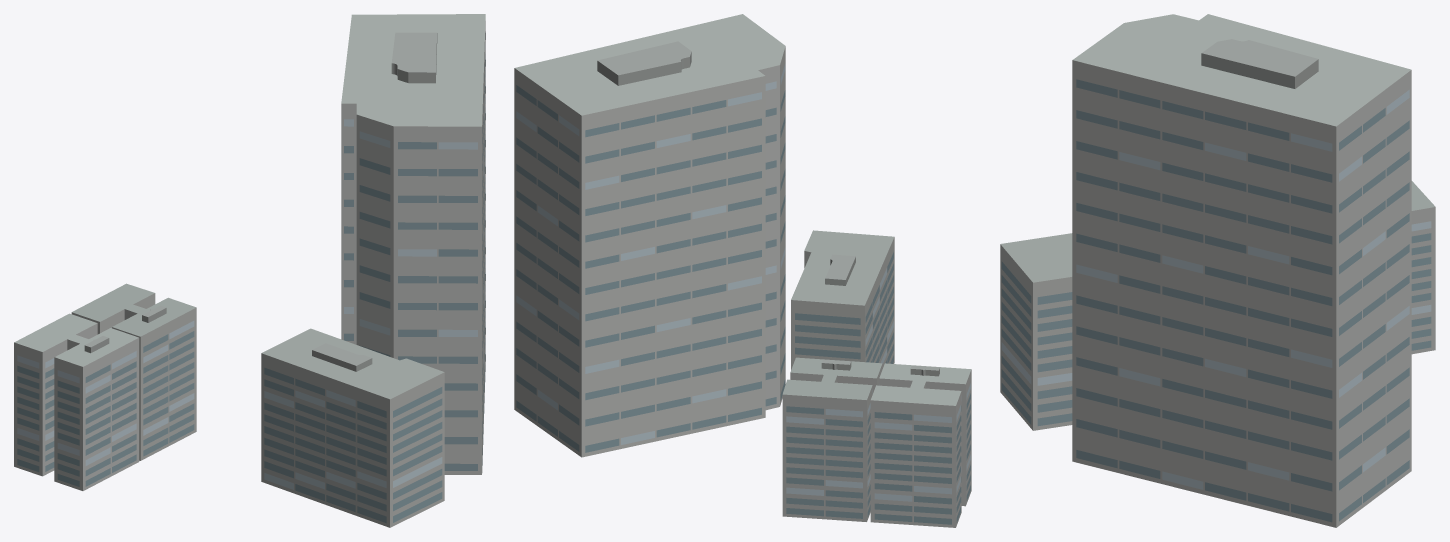
File: apt-a13579504.glb
3 renders of one model, left to right at view 1: azimuth 30°, elevation 25°; view 2: azimuth 150°, elevation 25°; view 3: azimuth 270°, elevation 25°, orthographic. The views are drawn at different scales.
Parts seen in each view (by area): view 1: apt-a13579504; view 2: apt-a13579504; view 3: apt-a13579504.
Boxes of the visible parts, x1=… form: apt-a13579504: x1=14, y1=14, x2=485, y2=527; apt-a13579504: x1=514, y1=14, x2=971, y2=527; apt-a13579504: x1=1000, y1=14, x2=1435, y2=527.
Size of the model in its own units: 107 by 80 by 76.29.
